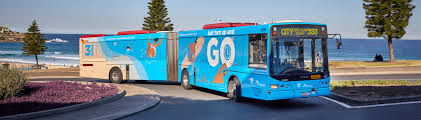bus: (77, 21, 343, 104)
